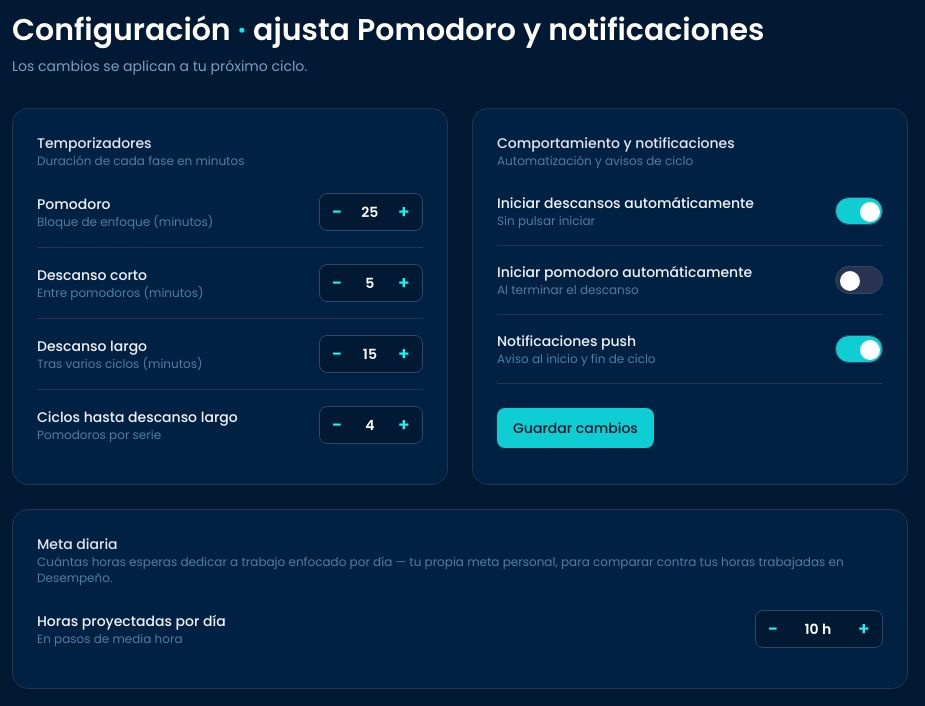
Test: SettingsPage › carga la configuración y permite ajustar un stepper y guardar
expect the text with test id "focusMinutes-value" reads "25": met, box x1=361 y1=202 x2=378 y2=222
Click the button with test id "focusMinutes-increment": (404, 212) x1=390 y1=194 x2=418 y2=230
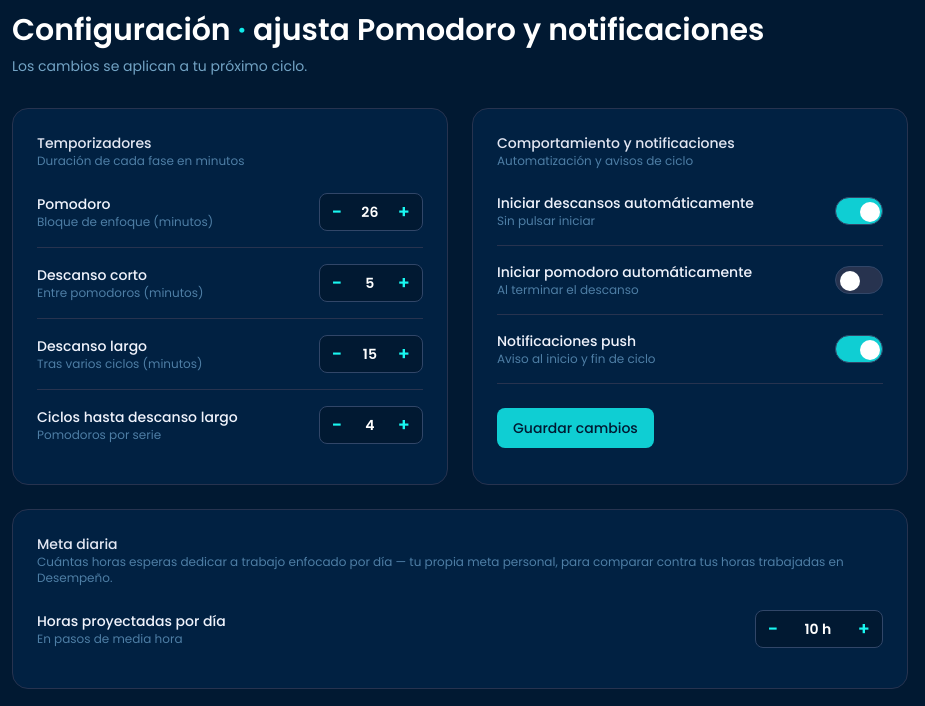
expect the text with test id "focusMinutes-value" reads "26": met, box x1=361 y1=202 x2=378 y2=222
Click the button with test id "save-settings-button": (575, 428) x1=497 y1=408 x2=654 y2=448
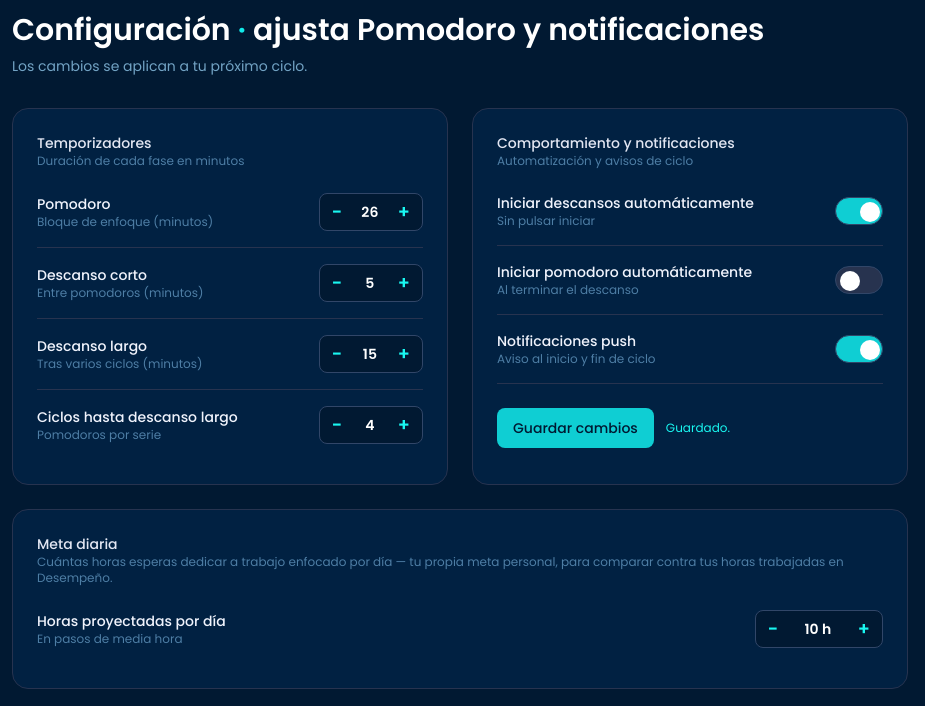
expect the text "Guardado." is shown: met, box x1=666 y1=420 x2=730 y2=436
